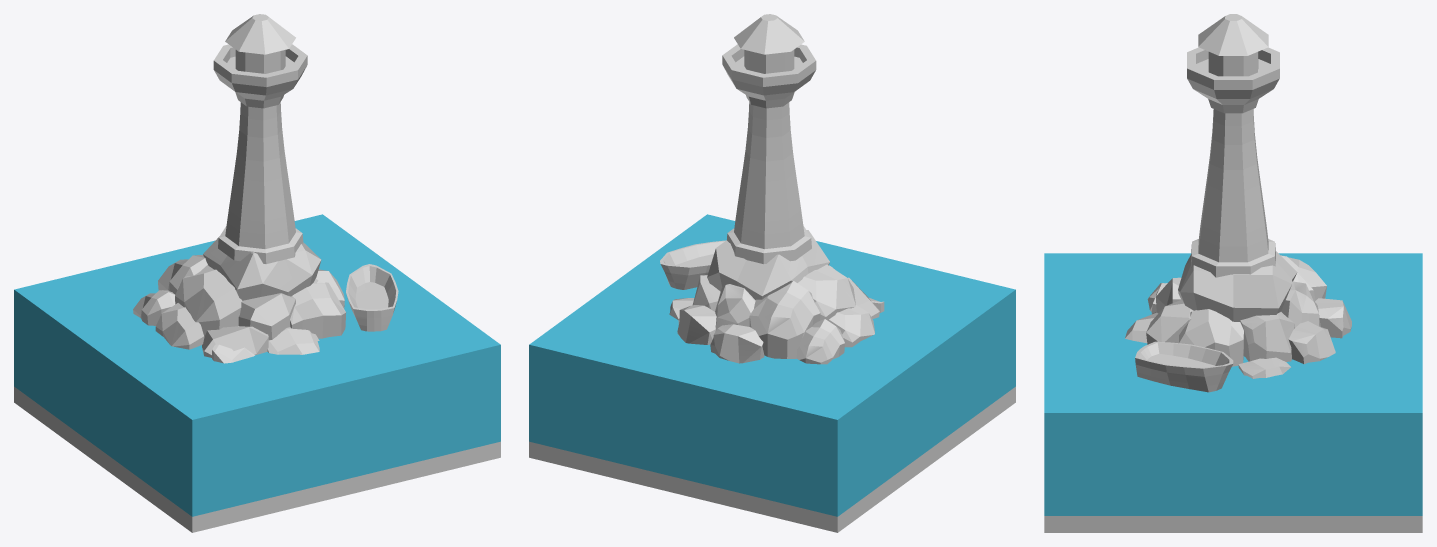
The model's file is LightHouse.fbx.
3 renders of one model, left to right at view 1: azimuth 30°, elevation 25°; view 2: azimuth 150°, elevation 25°; view 3: azimuth 270°, elevation 25°, orthographic. The views are drawn at different scales.
Visible parts, largest first — view 1: Lighthouse; view 2: Lighthouse; view 3: Lighthouse.
Part boxes in pixels (x1,y1,x2,y2): Lighthouse: (14,14,500,532); Lighthouse: (529,14,1015,532); Lighthouse: (1044,14,1422,532).
Size of the model in its own units: 200 by 255 by 200.
